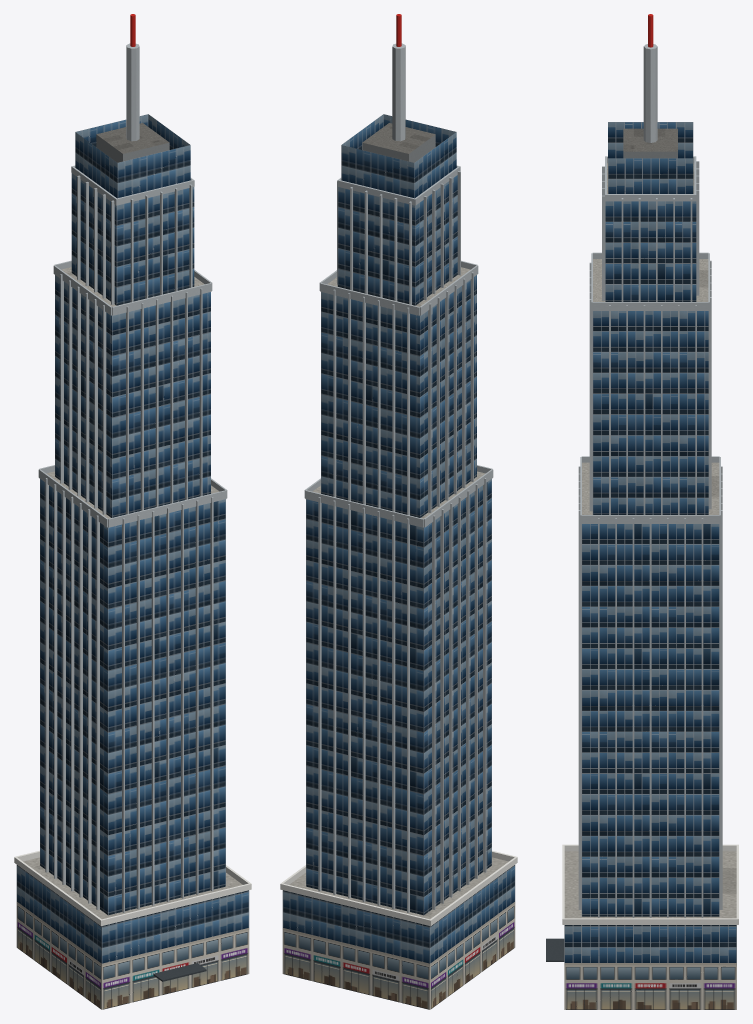
Rendered from OW_CaoOc_VP_VayDoc_152.fbx.
The picture shows the model from 3 angles, left to right: view 1: azimuth 30°, elevation 25°; view 2: azimuth 150°, elevation 25°; view 3: azimuth 270°, elevation 25°; orthographic projection.
Parts seen in each view (by area): view 1: OW_CaoOc_VP_VayDoc_152_LOD0; view 2: OW_CaoOc_VP_VayDoc_152_LOD0; view 3: OW_CaoOc_VP_VayDoc_152_LOD0.
Part boxes in pixels (bbox=[...]): OW_CaoOc_VP_VayDoc_152_LOD0: bbox=[14, 14, 251, 1009]; OW_CaoOc_VP_VayDoc_152_LOD0: bbox=[280, 14, 517, 1009]; OW_CaoOc_VP_VayDoc_152_LOD0: bbox=[546, 14, 738, 1009].
Size of what is drawn, in the model's own units: 30.7 by 184 by 33.55.
